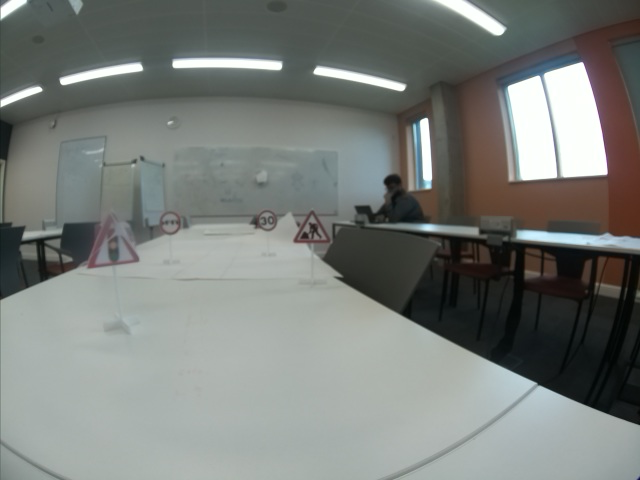30mph: (257, 209, 278, 231)
6ft6: (158, 210, 181, 235)
Roadworks: (292, 208, 332, 242)
Traffic lights: (87, 213, 139, 270)
